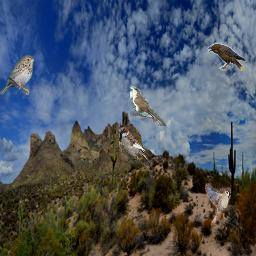Crow: (207, 42, 247, 71)
Cuckoo: (130, 86, 166, 126)
Sparrow: (0, 55, 34, 95), (119, 127, 151, 167), (205, 183, 231, 223)
